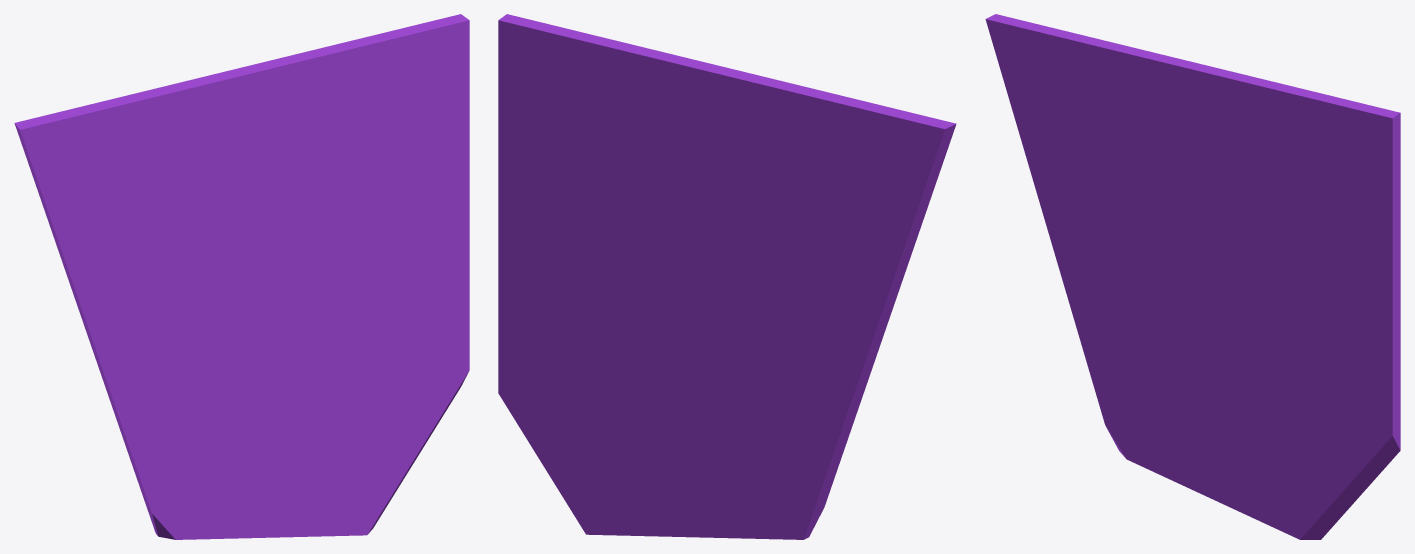
The model's file is Glass_104_6_chunks.fbx.
3 views of the same model, side by side, from view 1: azimuth 30°, elevation 25°; view 2: azimuth 150°, elevation 25°; view 3: azimuth 330°, elevation 25° (orthographic). The views are drawn at different scales.
Parts seen in each view (by area): view 1: Glass_104_6_0, Glass_104_6_4, Glass_104_6_1, Glass_104_6_8, Glass_104_6_9, Glass_104_6_10, Glass_104_6_6, Glass_104_6_11, Glass_104_6_5, Glass_104_6_3, Glass_104_6_2, Glass_104_6_7; view 2: Glass_104_6_0, Glass_104_6_4, Glass_104_6_1, Glass_104_6_10, Glass_104_6_9, Glass_104_6_8, Glass_104_6_6, Glass_104_6_3, Glass_104_6_11, Glass_104_6_7, Glass_104_6_5, Glass_104_6_12 (+1 smaller); view 3: Glass_104_6_0, Glass_104_6_4, Glass_104_6_1, Glass_104_6_8, Glass_104_6_9, Glass_104_6_10, Glass_104_6_6, Glass_104_6_11, Glass_104_6_5, Glass_104_6_3, Glass_104_6_2, Glass_104_6_7.
Part boxes in pixels (x1,y1,x2,y2): Glass_104_6_0: (14,96,227,373); Glass_104_6_4: (311,50,469,307); Glass_104_6_1: (332,282,469,519); Glass_104_6_8: (101,284,247,475); Glass_104_6_9: (132,130,322,285); Glass_104_6_10: (292,14,469,204); Glass_104_6_6: (186,437,386,539); Glass_104_6_11: (112,46,342,137); Glass_104_6_5: (238,285,345,440); Glass_104_6_3: (247,218,343,349); Glass_104_6_2: (289,297,363,418); Glass_104_6_7: (125,444,226,539); Glass_104_6_0: (724,101,956,380); Glass_104_6_4: (498,31,655,302); Glass_104_6_1: (498,275,654,527); Glass_104_6_10: (498,14,672,191); Glass_104_6_9: (651,128,812,269); Glass_104_6_8: (732,301,873,469); Glass_104_6_6: (582,445,764,538); Glass_104_6_3: (612,198,729,379); Glass_104_6_11: (630,45,863,133); Glass_104_6_7: (719,427,837,539); Glass_104_6_5: (632,294,739,448); Glass_104_6_12: (657,94,722,137); Glass_104_6_0: (985,14,1173,271); Glass_104_6_4: (1249,122,1400,355); Glass_104_6_1: (1268,332,1400,534); Glass_104_6_8: (1060,251,1191,407); Glass_104_6_9: (1087,76,1259,260); Glass_104_6_10: (1232,83,1400,220); Glass_104_6_6: (1136,398,1324,539); Glass_104_6_11: (1069,38,1280,138); Glass_104_6_5: (1183,256,1280,444); Glass_104_6_3: (1191,227,1279,336); Glass_104_6_2: (1229,314,1296,418); Glass_104_6_7: (1093,385,1171,463).
Size of the model in its own units: 823 by 863 by 27.2.
